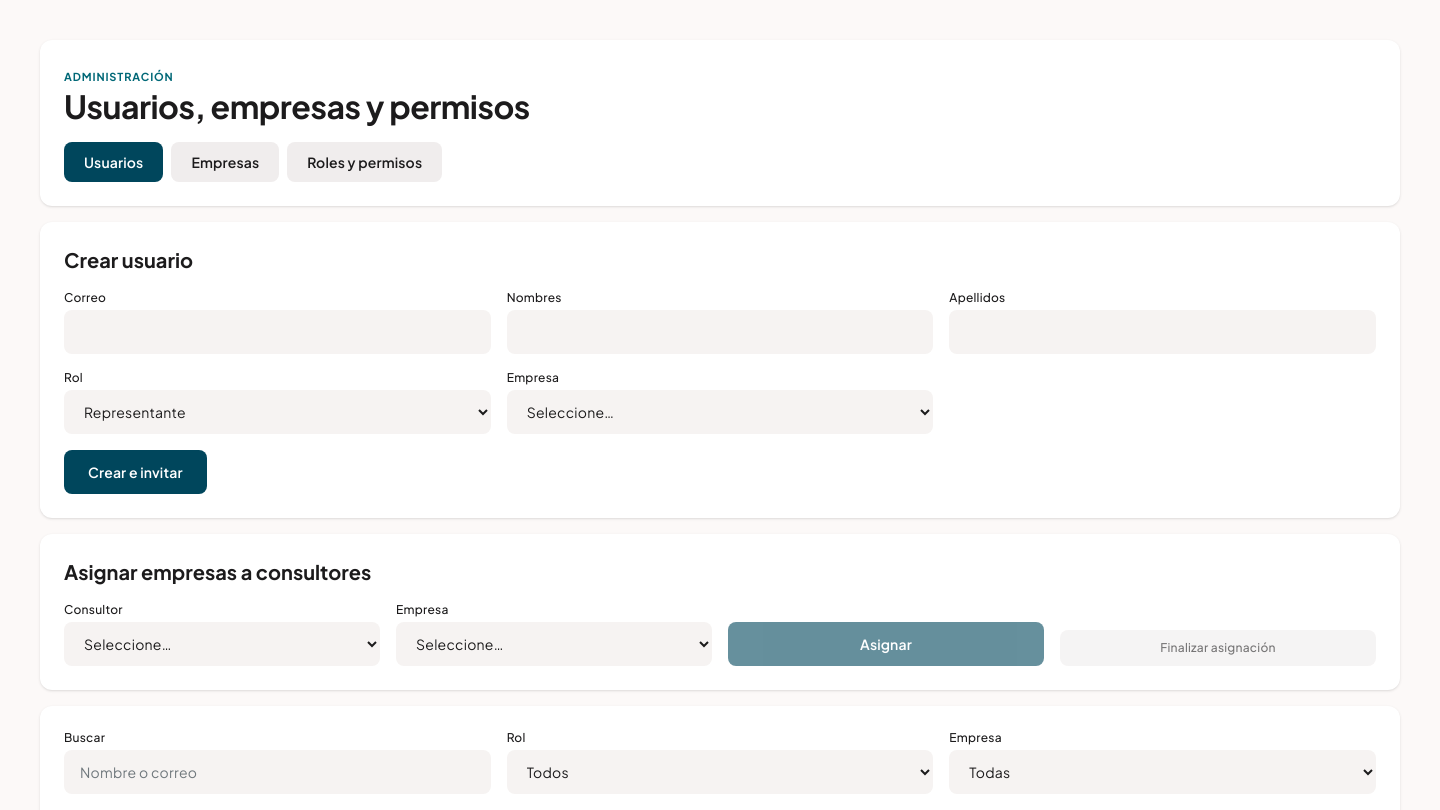
Test case: Nombres de los permisos › muestra el nombre legible de cada permiso y no su código
The width and height of the screenshot is (1440, 810).
Click the tab "Roles y permisos" at [365, 162], box x1=287 y1=142 x2=442 y2=182
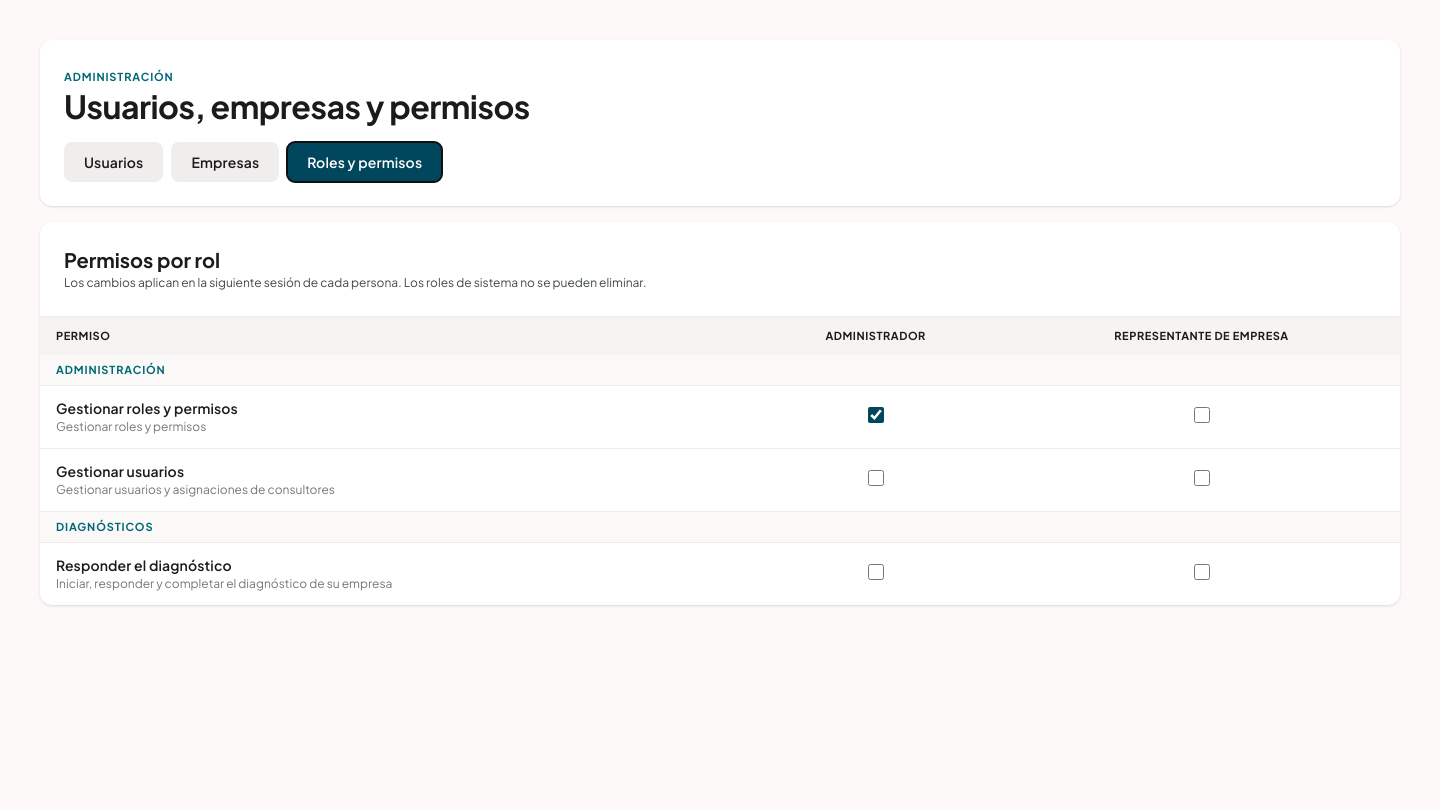
Expected: the heading "Permisos por rol" is shown, x1=64 y1=247 x2=220 y2=272
Expected: the text "Gestionar usuarios" is shown, x1=56 y1=462 x2=184 y2=480
Expected: the text "Responder el diagnóstico" is shown, x1=56 y1=556 x2=232 y2=574
